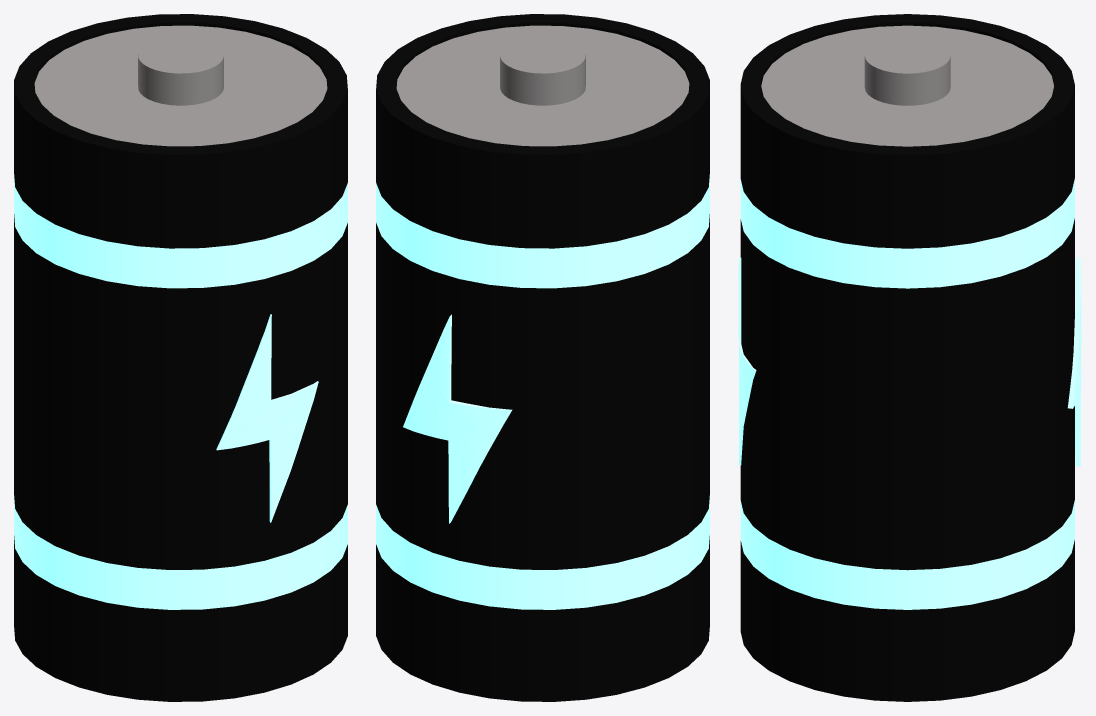
Rendered from battery.fbx.
3 renders of one model, left to right at view 1: azimuth 30°, elevation 25°; view 2: azimuth 150°, elevation 25°; view 3: azimuth 270°, elevation 25°, orthographic.
Parts seen in each view (by area): view 1: battery; view 2: battery; view 3: battery.
Part boxes in pixels (bbox=[...]): battery: bbox=[14, 14, 347, 701]; battery: bbox=[376, 14, 709, 701]; battery: bbox=[738, 14, 1081, 701].
Size of the model in its own units: 48.73 by 92.59 by 50.
